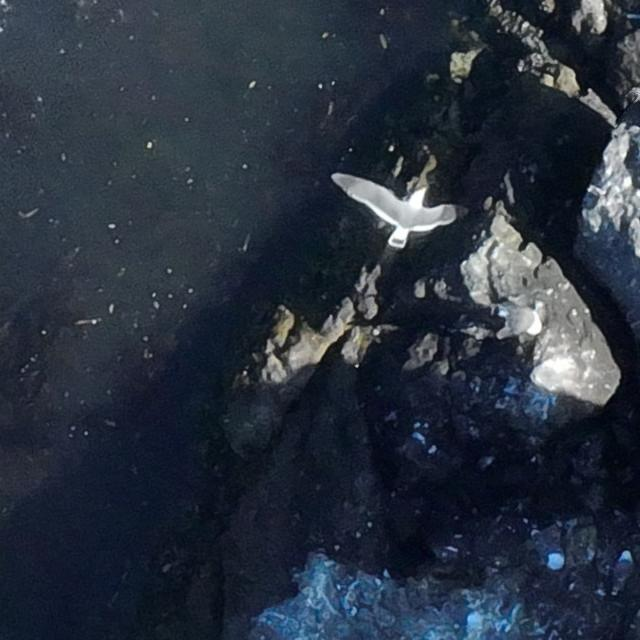F: (352, 176, 456, 242)
umineko: (532, 532, 567, 570), (498, 308, 543, 336), (614, 552, 634, 590)
